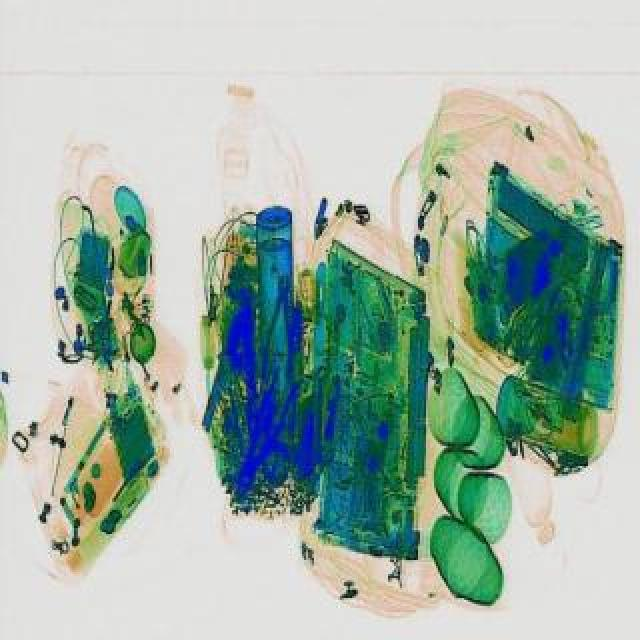wrench: (224, 364, 302, 500), (264, 272, 296, 378)
